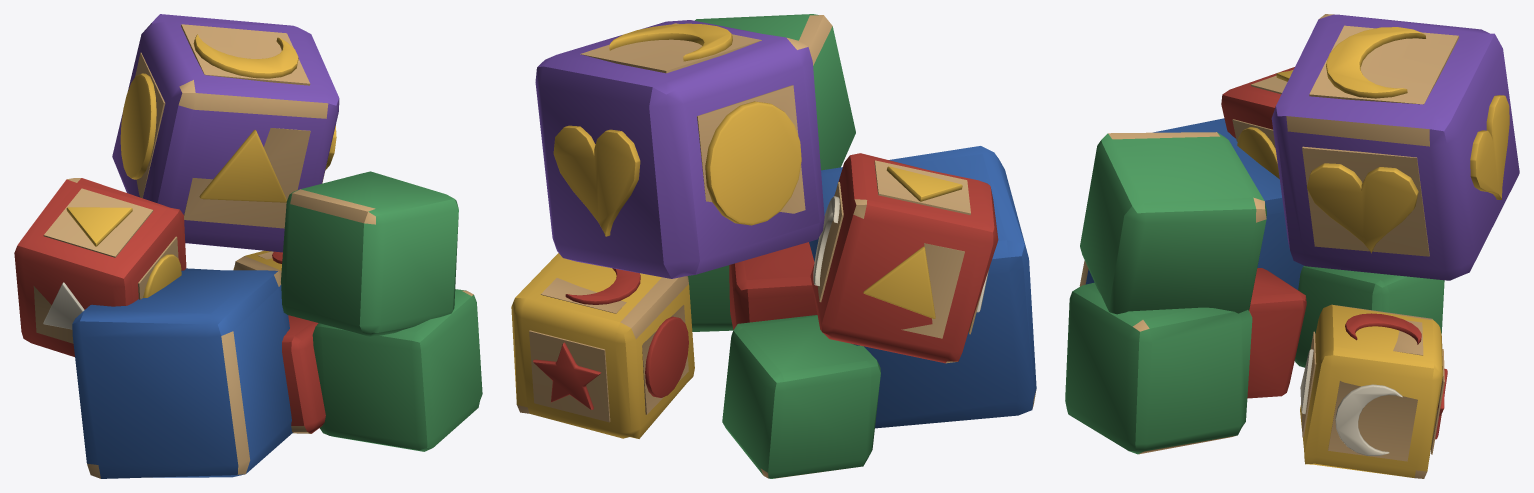
Rendered from den_toy_pile_c.glb.
The picture shows the model from 3 angles, left to right: view 1: azimuth 30°, elevation 25°; view 2: azimuth 150°, elevation 25°; view 3: azimuth 270°, elevation 25°; orthographic projection. The views are drawn at different scales.
Visible parts, largest first — view 1: den_toy_pile_c; view 2: den_toy_pile_c; view 3: den_toy_pile_c.
Boxes of the visible parts, x1,y1,x2,y2 form: den_toy_pile_c: (14, 14, 482, 478); den_toy_pile_c: (511, 14, 1036, 478); den_toy_pile_c: (1065, 14, 1519, 478).
Size of the model in its own units: 5.79 by 5.08 by 5.55.
